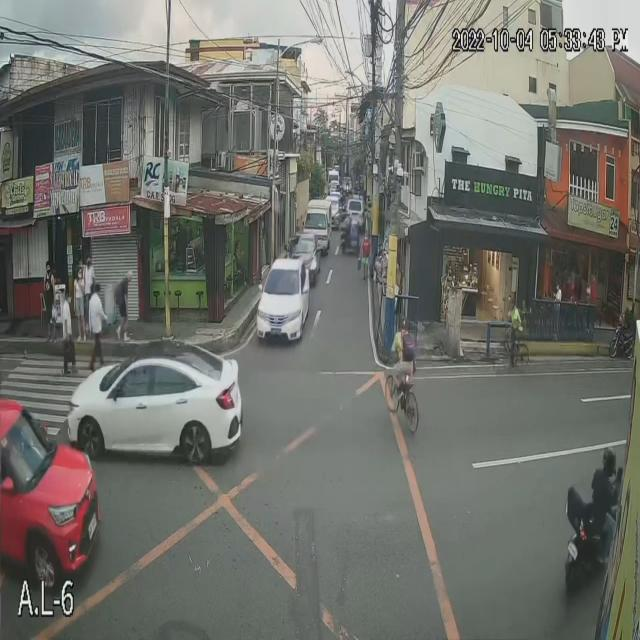Full-Faced: (601, 443, 618, 477)
